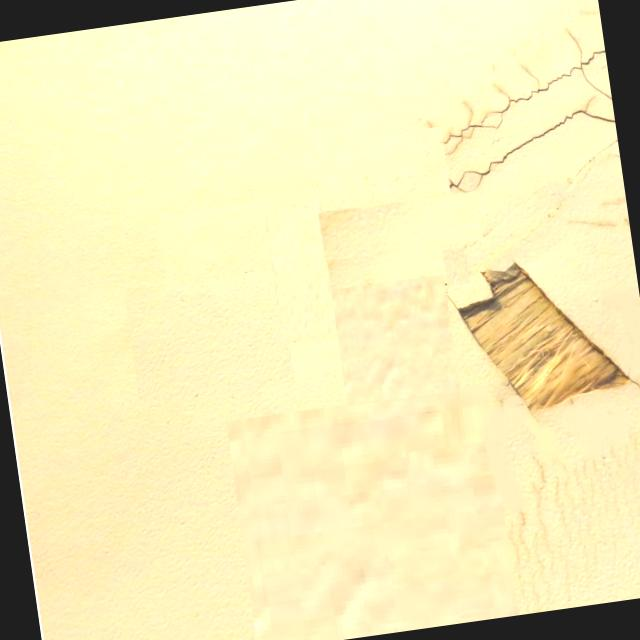crack: (424, 30, 622, 193)
surface_peeling: (449, 243, 640, 425)
